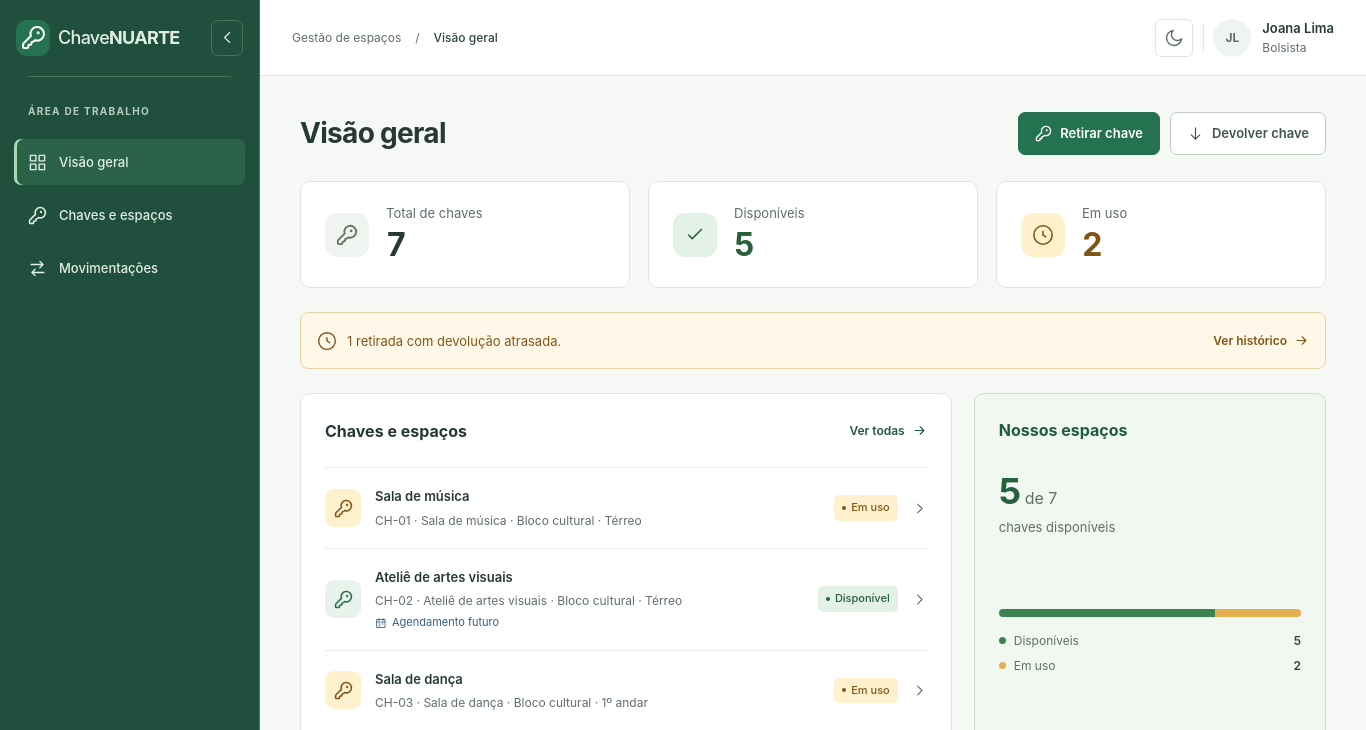
Test: interface e limites dos perfis › não repete atalhos de retirada ou devolução no histórico
Expected: the element named "Resumo de chaves" is shown, left=300, top=181, right=1326, bottom=288
Click the button "Movimentações": click(130, 268) left=14, top=245, right=245, bottom=291
(page scrolled)
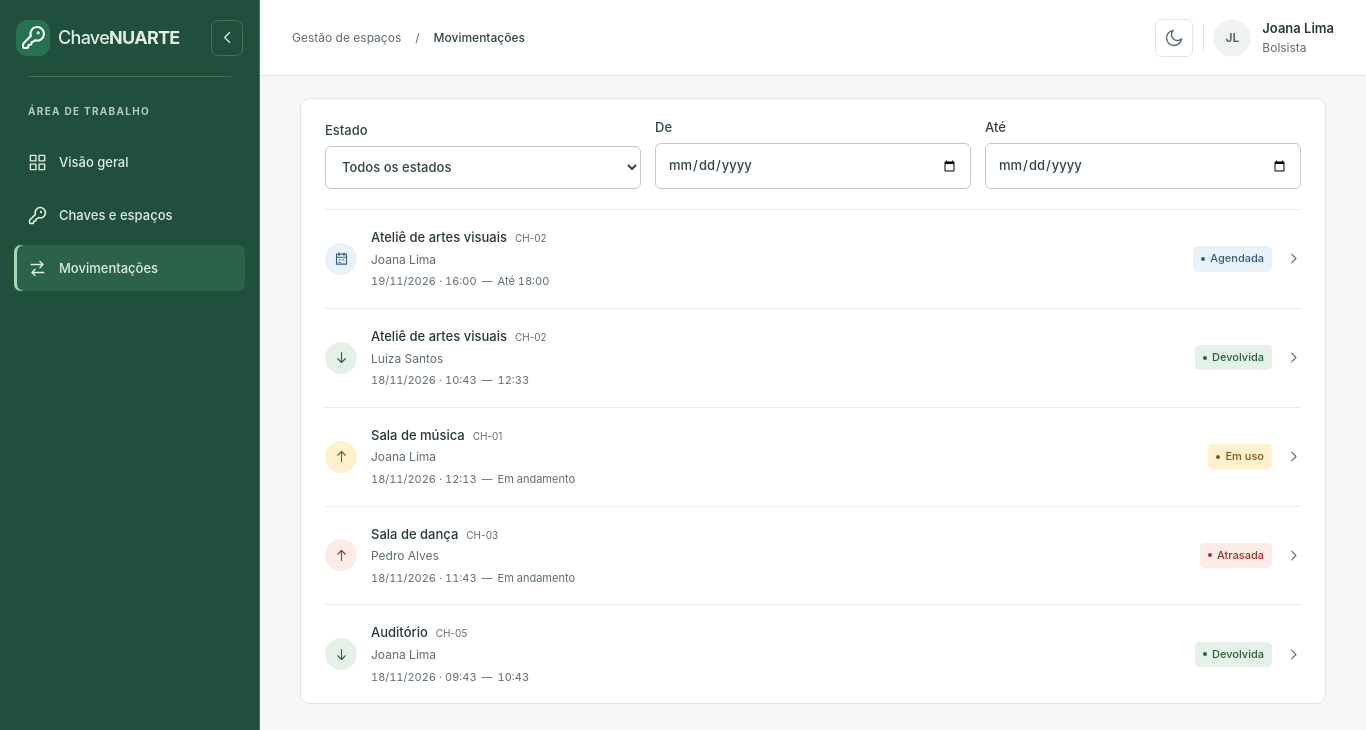
Expected: the 1st text "Em andamento" is shown, left=498, top=470, right=575, bottom=488
Expected: the dropdown labelled "Estado" is shown, left=325, top=146, right=641, bottom=189
Expected: the button "Retirar chave" is gone
